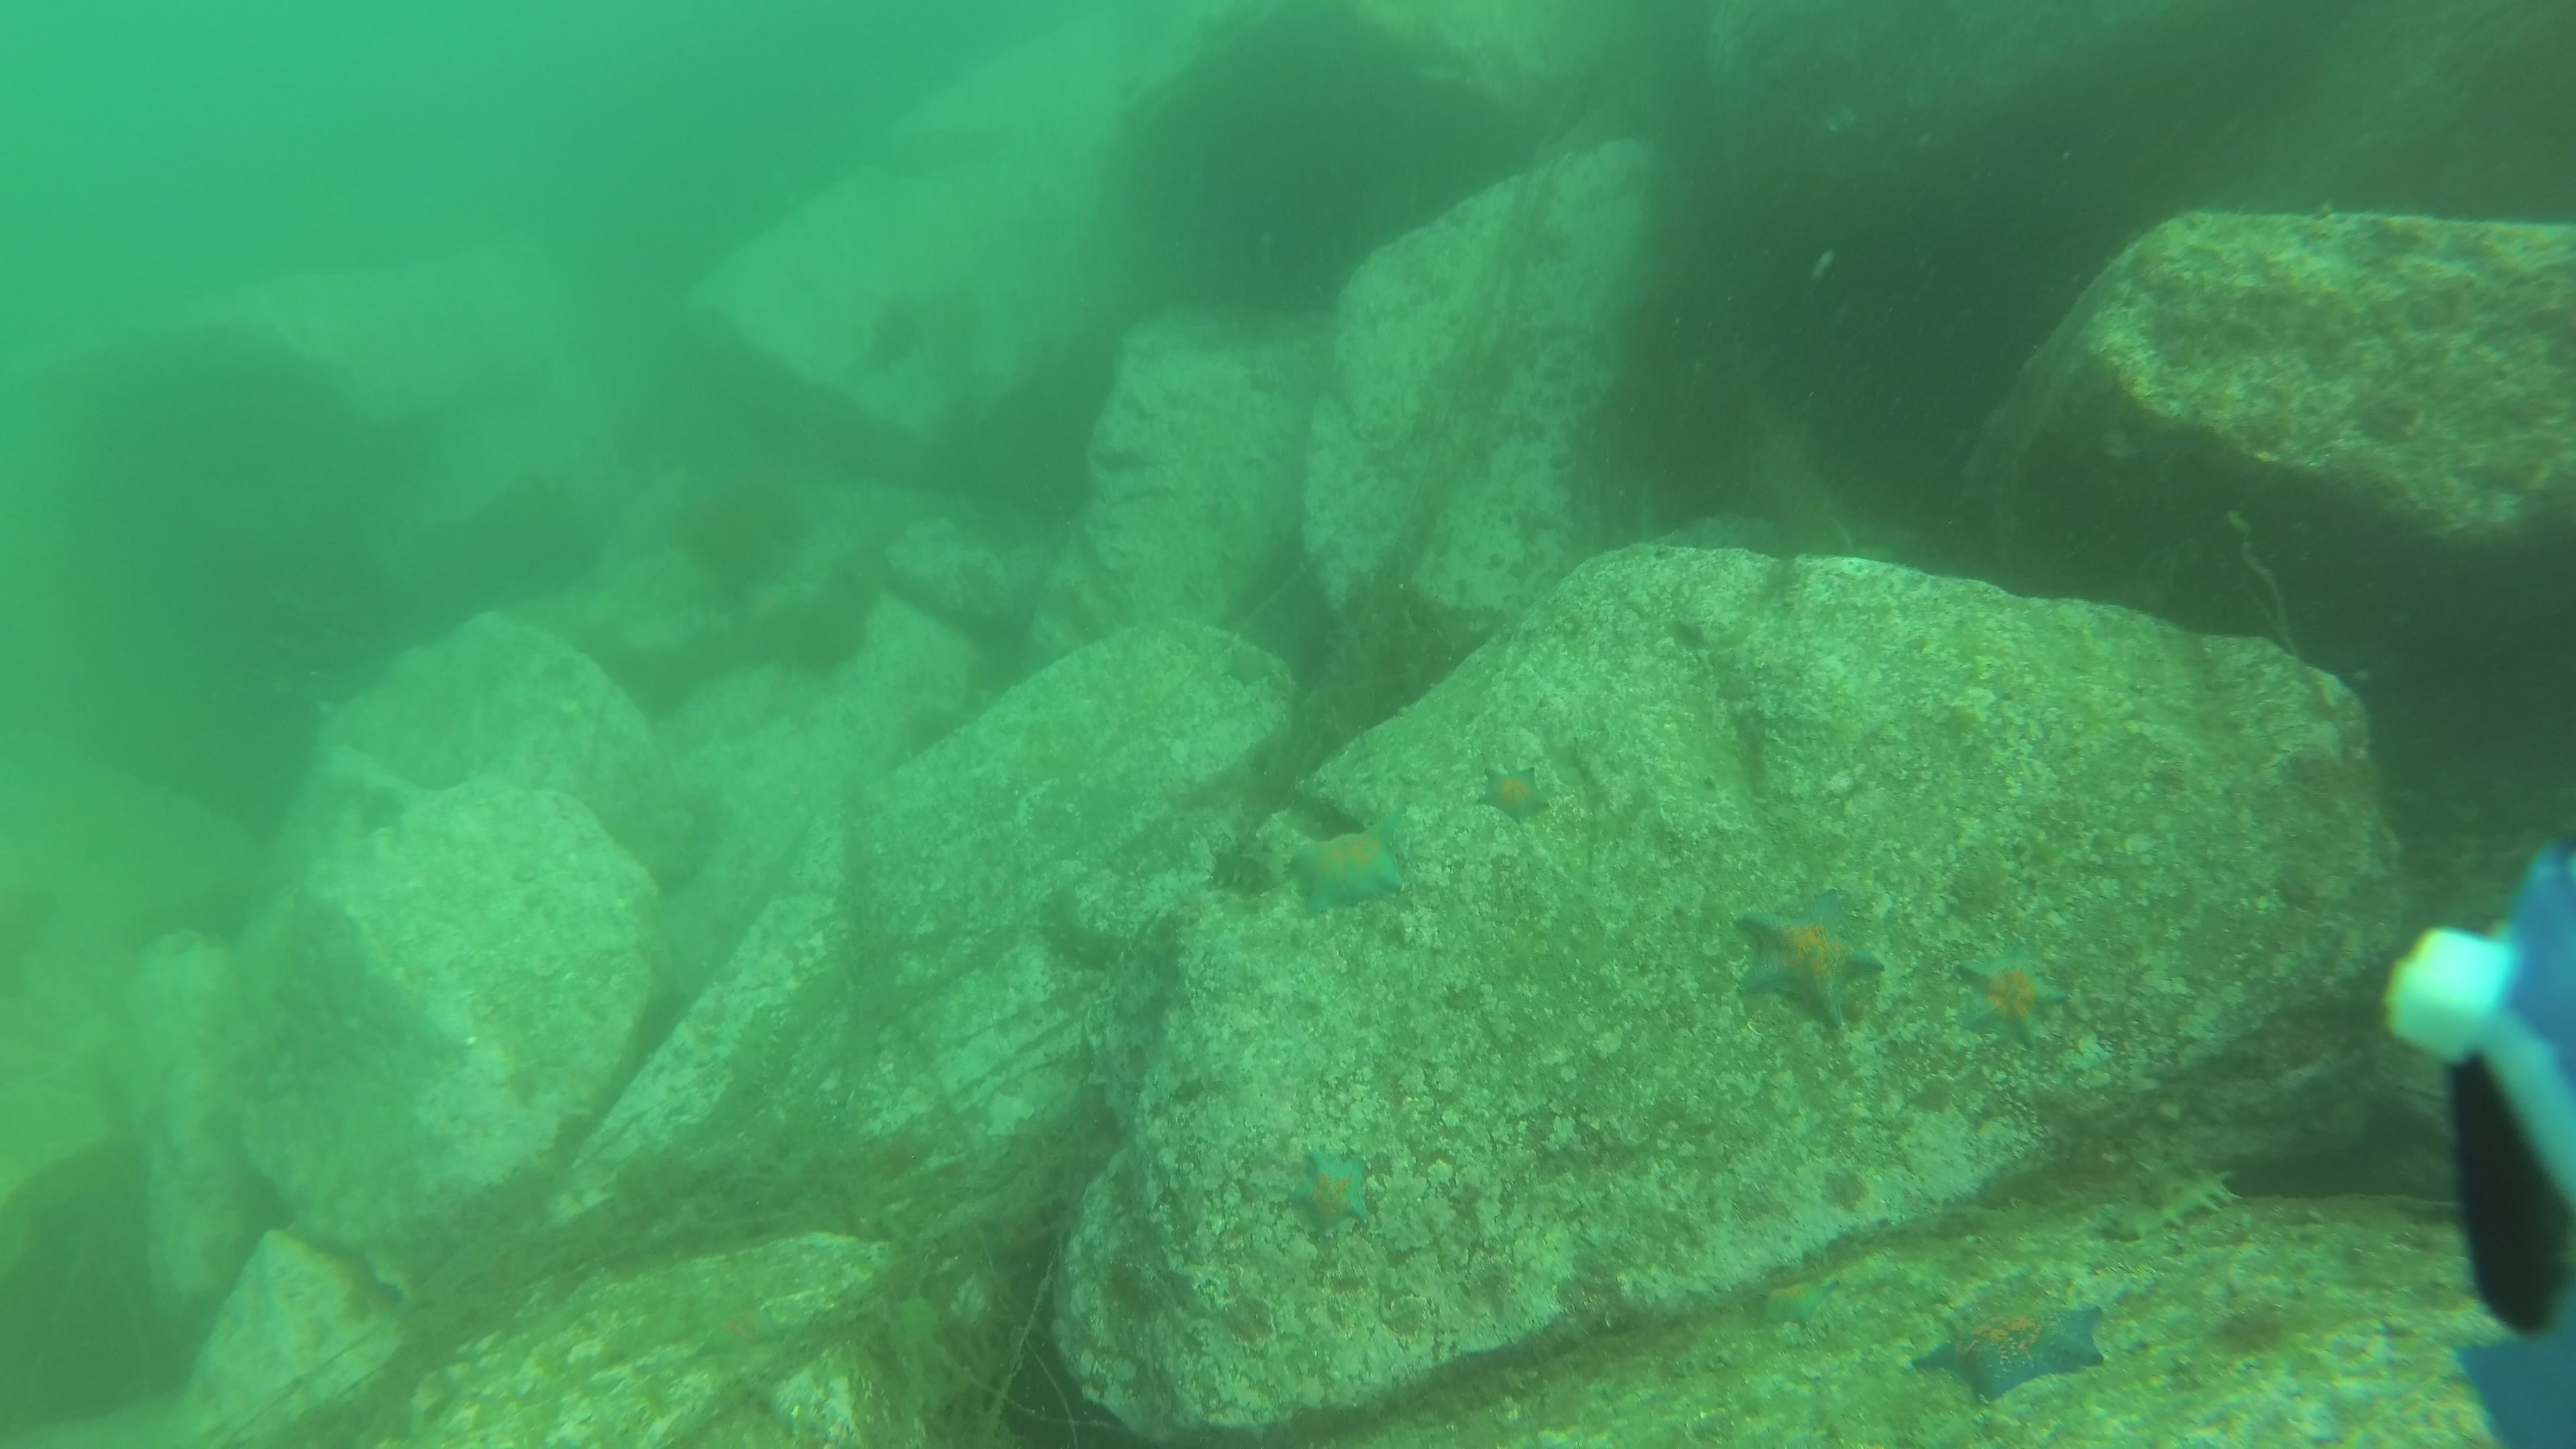holothurian: (2098, 1162, 2249, 1247), (1030, 881, 1136, 980), (1200, 826, 1292, 897)
starfish: (1730, 883, 1890, 1035), (1905, 1299, 2112, 1410), (1279, 809, 1422, 922), (1948, 936, 2074, 1056), (1281, 1145, 1376, 1231), (686, 1297, 794, 1366), (1472, 763, 1557, 830), (1753, 1272, 1847, 1332), (1221, 639, 1281, 694)
